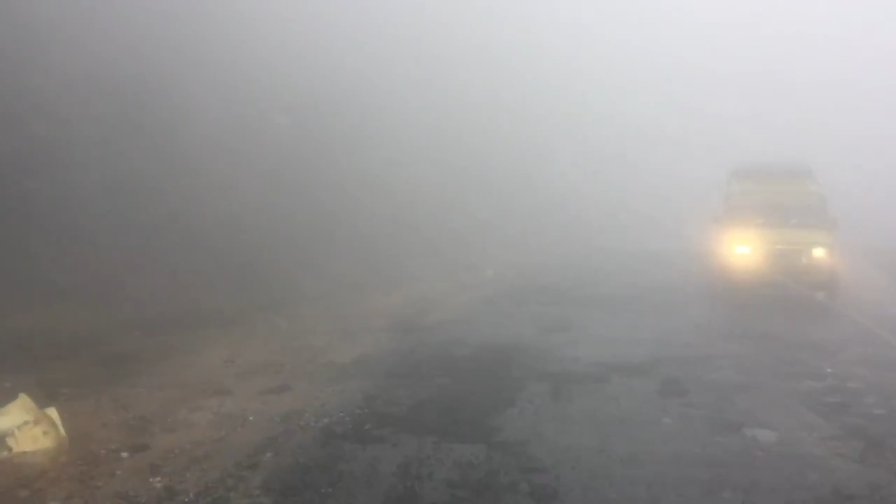car: (711, 165, 843, 303)
